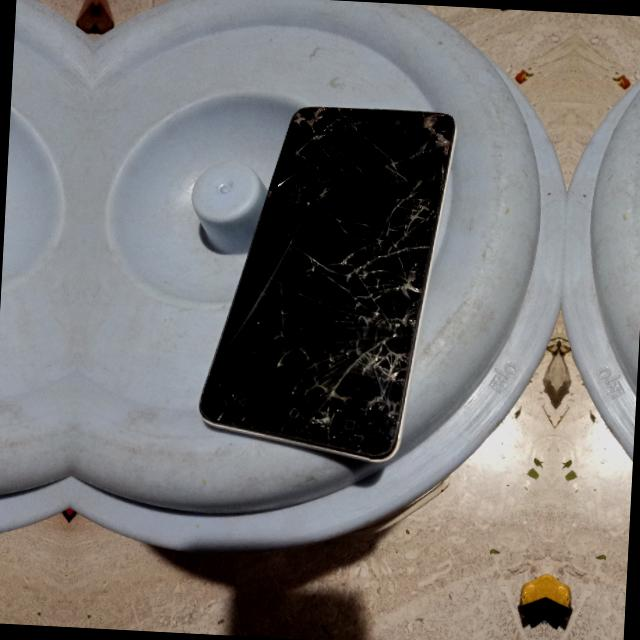phone_screen: (201, 108, 454, 459)
